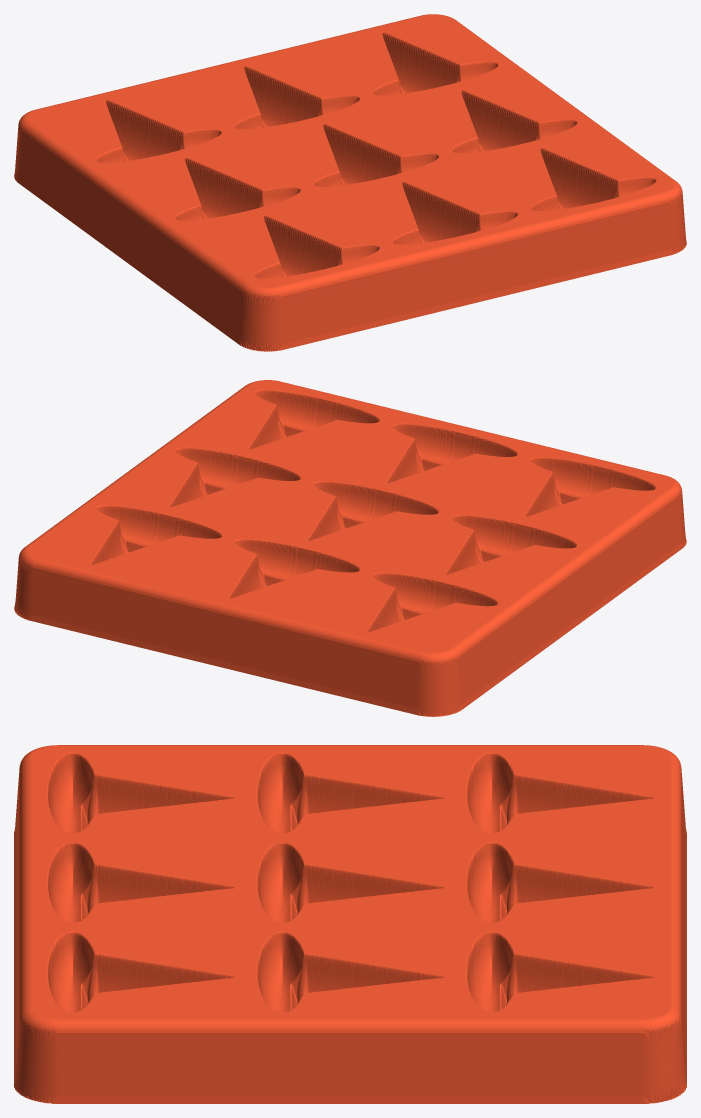
Rendered from mold.glb.
3 renders of one model, top to bottom at view 1: azimuth 30°, elevation 25°; view 2: azimuth 150°, elevation 25°; view 3: azimuth 270°, elevation 25°, orthographic. The views are drawn at different scales.
Parts seen in each view (by area): view 1: geometry_0; view 2: geometry_0; view 3: geometry_0.
Boxes of the visible parts, bbox=[...] form: geometry_0: bbox=[14, 14, 686, 351]; geometry_0: bbox=[14, 380, 686, 716]; geometry_0: bbox=[14, 745, 686, 1103].
Size of the model in its own units: 0.1387 by 0.0175 by 0.1373.
